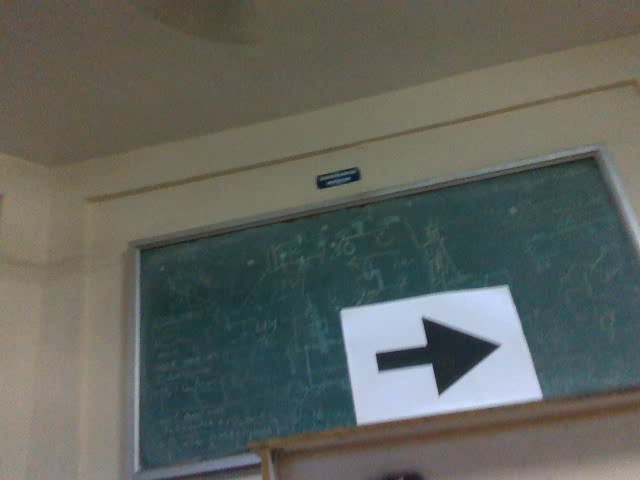Right: (371, 312, 507, 401)
